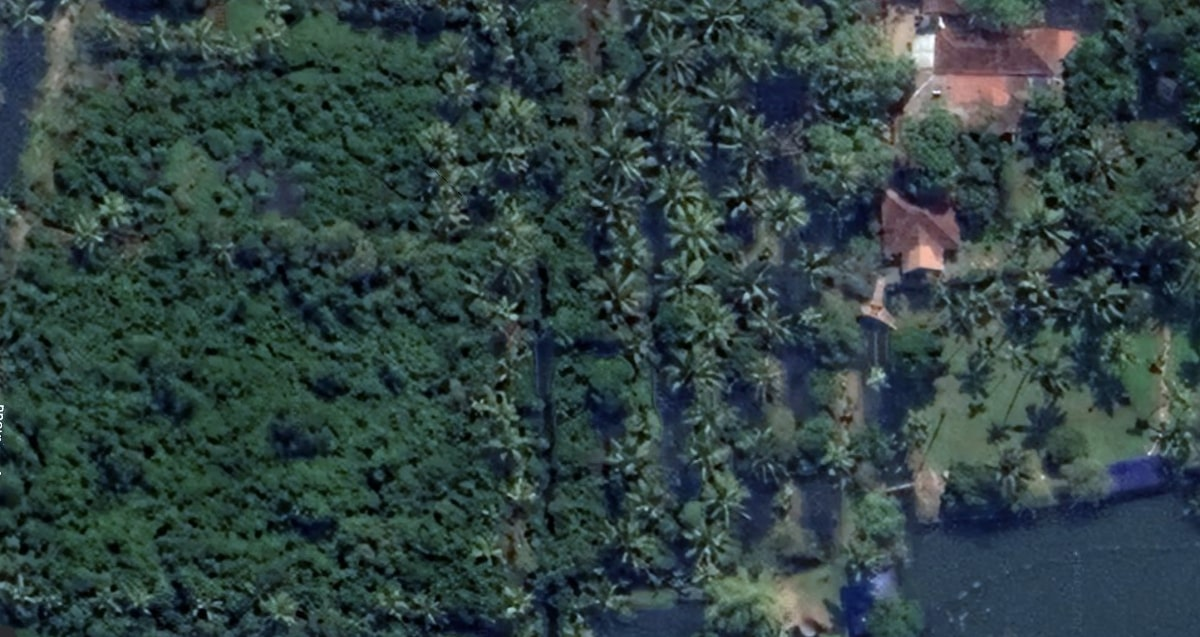coconut: (656, 202, 722, 256), (1004, 273, 1069, 325), (599, 127, 654, 187), (650, 22, 703, 84), (1075, 137, 1133, 188), (669, 349, 731, 396), (592, 268, 644, 322), (1083, 265, 1128, 327), (656, 121, 712, 170), (703, 477, 754, 528), (484, 241, 538, 288), (598, 224, 653, 270), (600, 518, 652, 566), (941, 288, 994, 335), (684, 520, 728, 576), (425, 192, 473, 242), (1, 572, 51, 620), (1024, 347, 1079, 390), (740, 433, 788, 481), (657, 254, 706, 301), (594, 183, 645, 227), (980, 453, 1031, 496), (765, 188, 809, 234), (419, 116, 462, 162), (740, 356, 787, 398), (602, 434, 650, 475), (626, 477, 667, 523), (93, 185, 137, 227), (718, 177, 764, 217), (753, 305, 793, 349), (183, 10, 217, 61), (480, 140, 529, 175), (430, 155, 466, 200), (687, 430, 721, 476), (437, 61, 478, 99), (710, 107, 749, 146), (496, 95, 534, 134), (699, 75, 738, 112), (137, 11, 168, 55), (819, 442, 857, 477), (85, 585, 124, 618), (69, 212, 100, 250), (220, 35, 254, 68), (133, 585, 156, 616)
